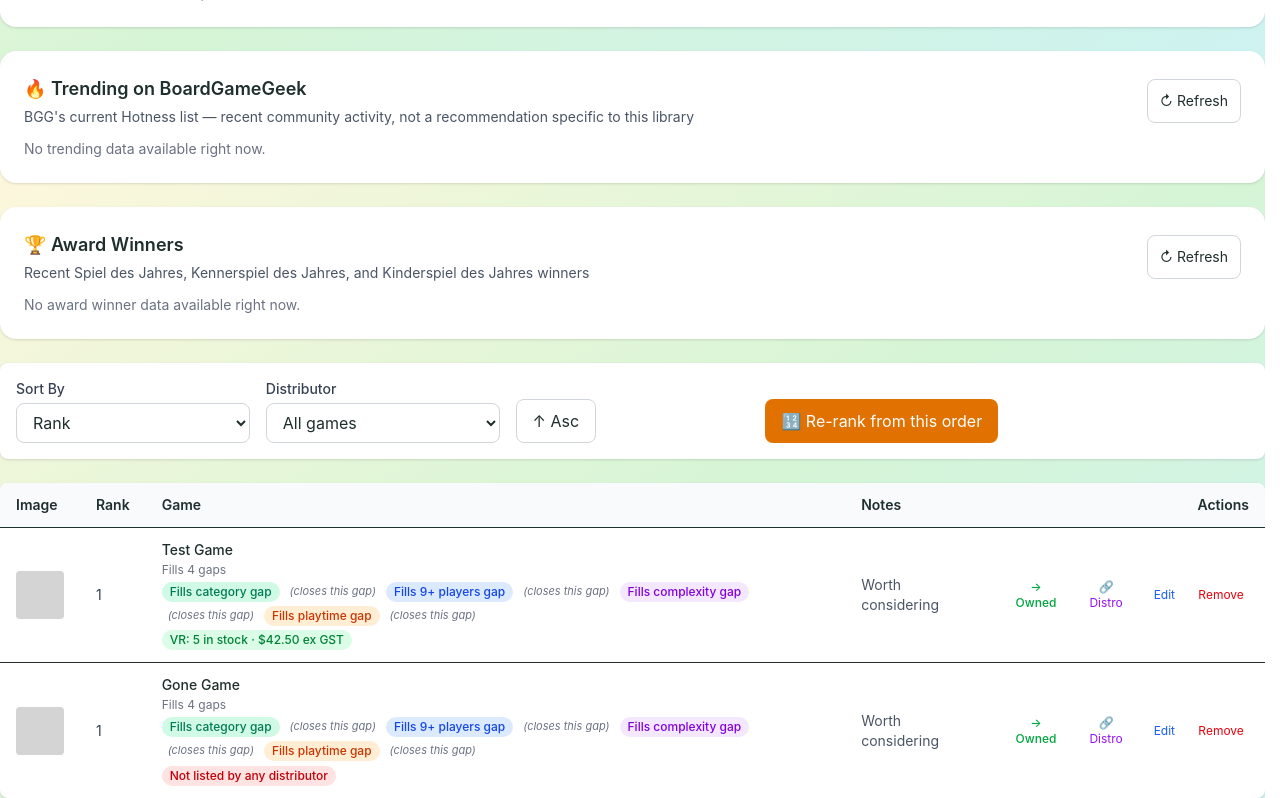
it: BuyListTab › Distributor availability › flags games no distributor lists, and can filter to them
The image size is (1280, 798).
(page scrolled)
Expected: the text "Not listed by any distributor" is shown, [162,766,336,786]
Select "Not listed by any distributor" in the dropdown labelled "Distributor" at (383, 423), box [266,403,500,443]
(page scrolled)
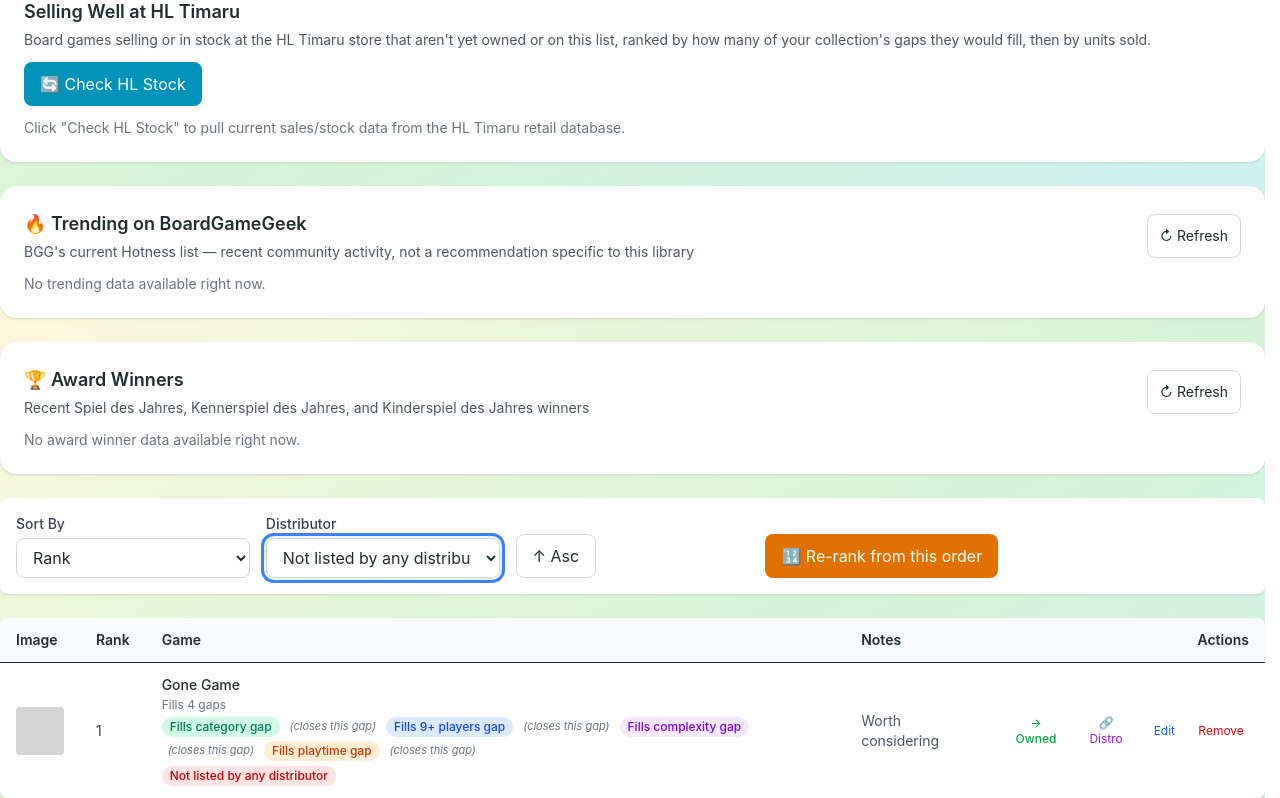
Expected: the text "Gone Game" is shown, [162,676,240,693]
Expected: the text "Test Game" is gone
